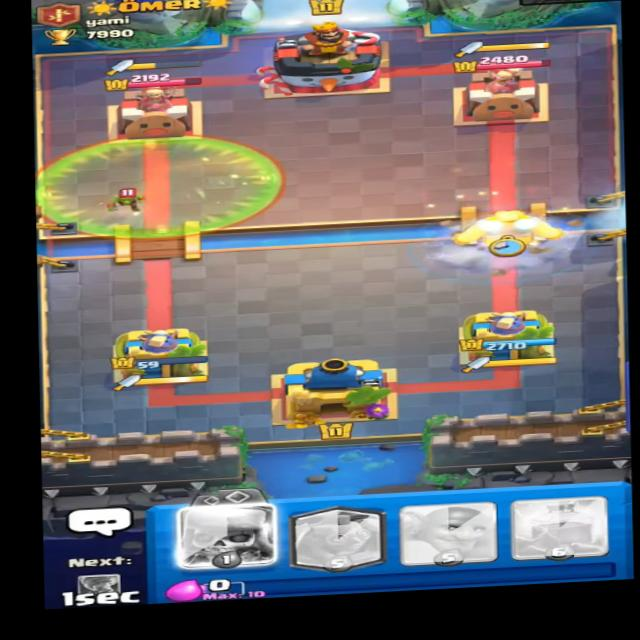goblin: (109, 184, 158, 215)
goblin-curse: (35, 127, 282, 246)
